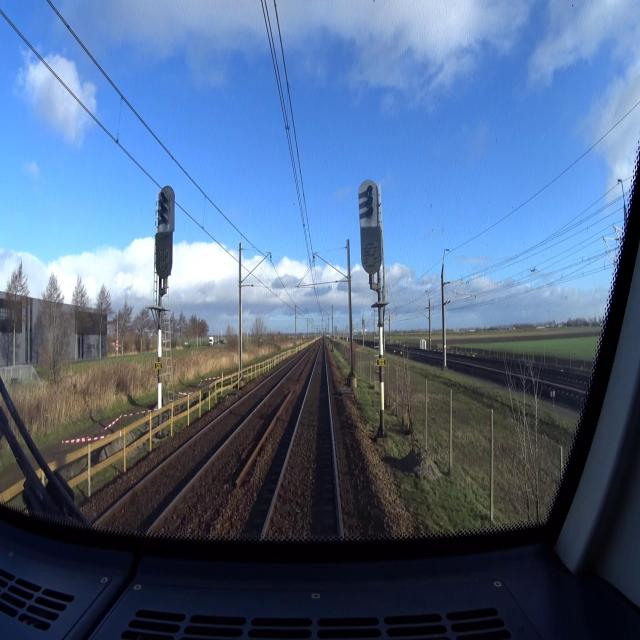rail-track: (104, 357, 299, 531), (265, 344, 338, 539)
